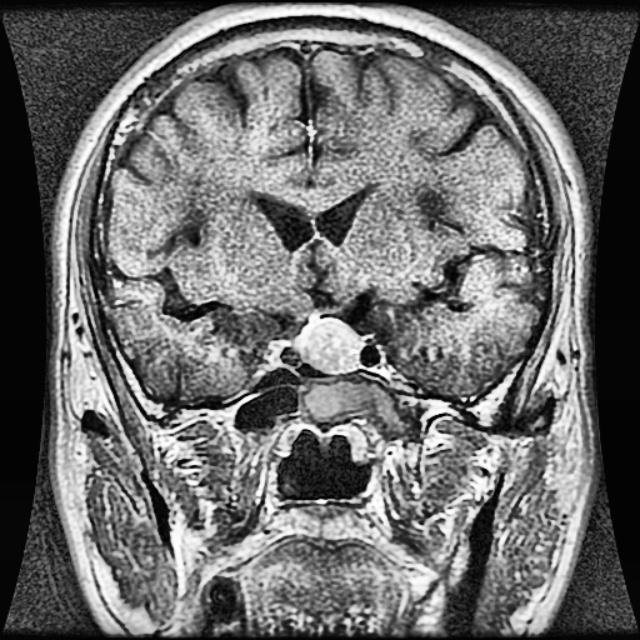Pituitary: (297, 317, 362, 373)
